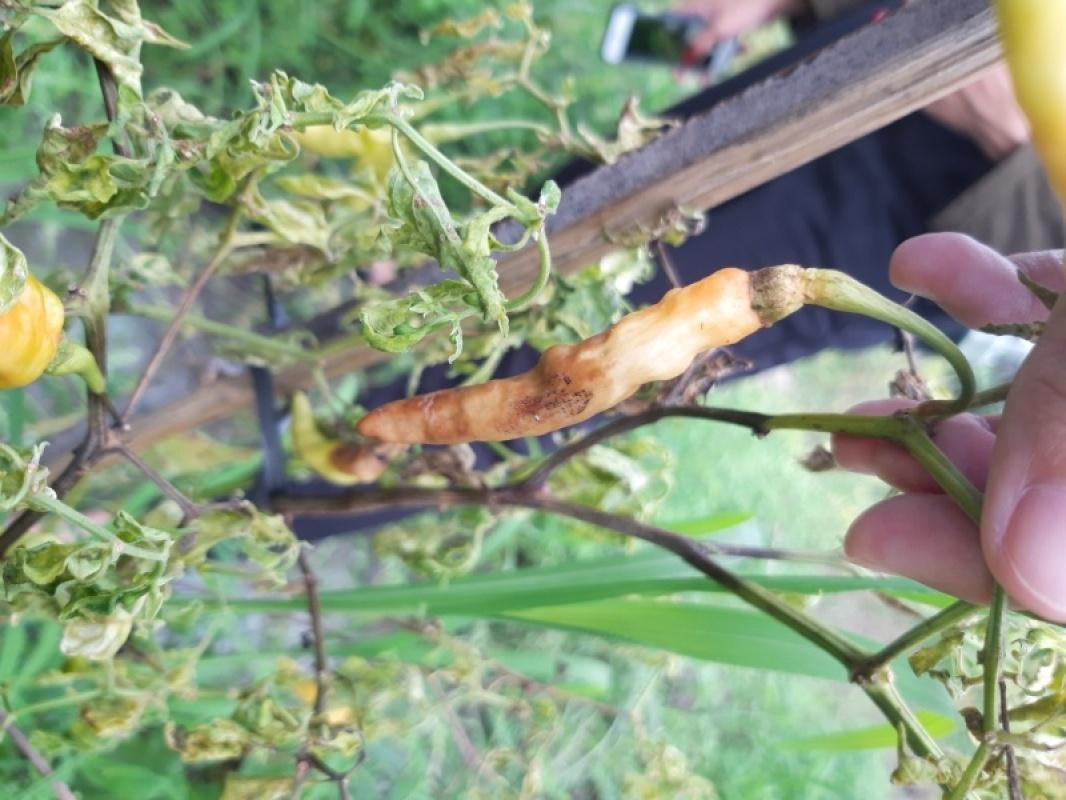antraknosa: (355, 266, 763, 441)
cabai_normal: (294, 390, 400, 486)
